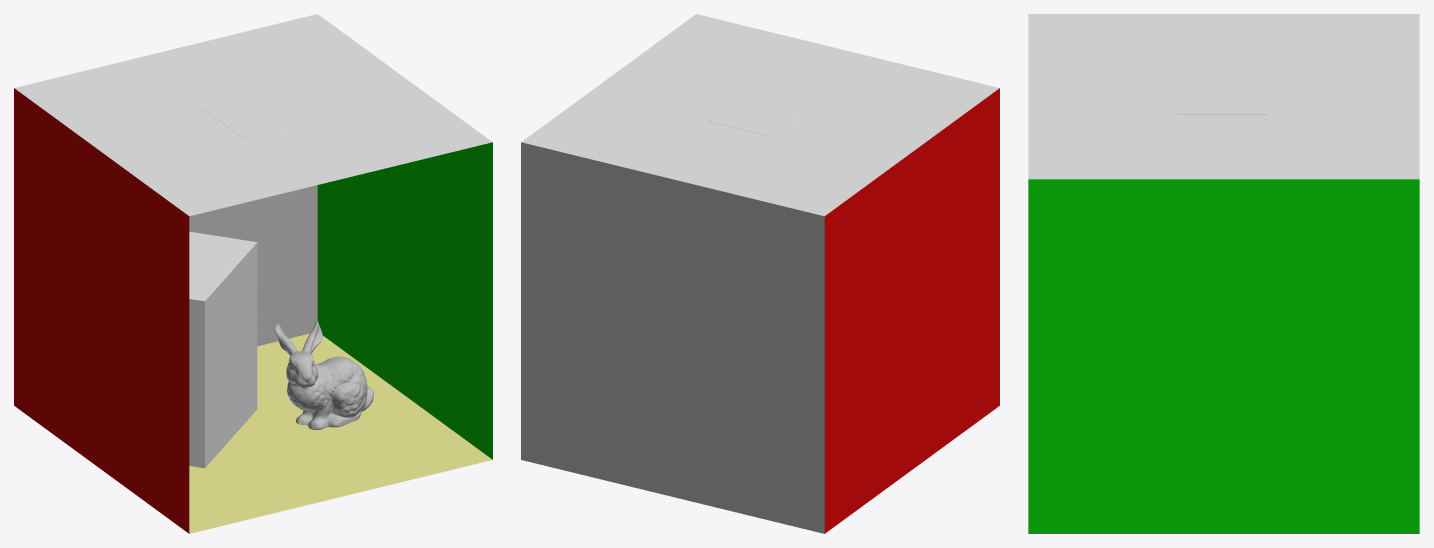
Rendered from CornellBox.fbx.
3 renders of one model, left to right at view 1: azimuth 30°, elevation 25°; view 2: azimuth 150°, elevation 25°; view 3: azimuth 270°, elevation 25°, orthographic. The views are drawn at different scales.
Visible parts, largest first — view 1: polySurface11; view 2: polySurface11; view 3: polySurface11.
Boxes of the visible parts, x1,y1,x2,y2 form: polySurface11: [14, 14, 492, 533]; polySurface11: [521, 14, 999, 533]; polySurface11: [1028, 14, 1419, 533].
Size of the model in its own units: 0.0281 by 0.0284 by 0.0281.
